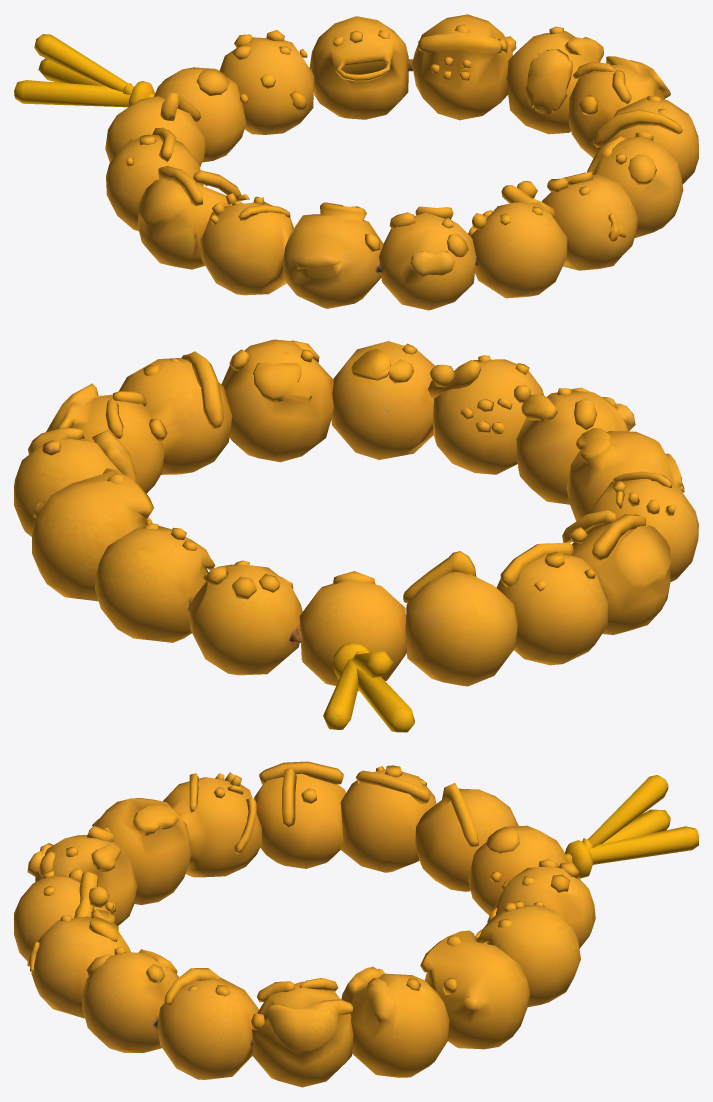
File: tasbih.fafde86c.glb
3 renders of one model, top to bottom at view 1: azimuth 30°, elevation 25°; view 2: azimuth 150°, elevation 25°; view 3: azimuth 270°, elevation 25°, orthographic. The views are drawn at different scales.
Visible parts, largest first — view 1: tripo_node_0e657161-f533-43d9-9ded-ce6a865fd4c5; view 2: tripo_node_0e657161-f533-43d9-9ded-ce6a865fd4c5; view 3: tripo_node_0e657161-f533-43d9-9ded-ce6a865fd4c5.
Part boxes in pixels (x1,y1,x2,y2): tripo_node_0e657161-f533-43d9-9ded-ce6a865fd4c5: (14, 14, 698, 310); tripo_node_0e657161-f533-43d9-9ded-ce6a865fd4c5: (14, 339, 698, 732); tripo_node_0e657161-f533-43d9-9ded-ce6a865fd4c5: (14, 761, 698, 1087).
Bounding box in the file's own units: 0.9161 × 0.1778 × 0.998.
Materials: 1 (1 with a texture image).
